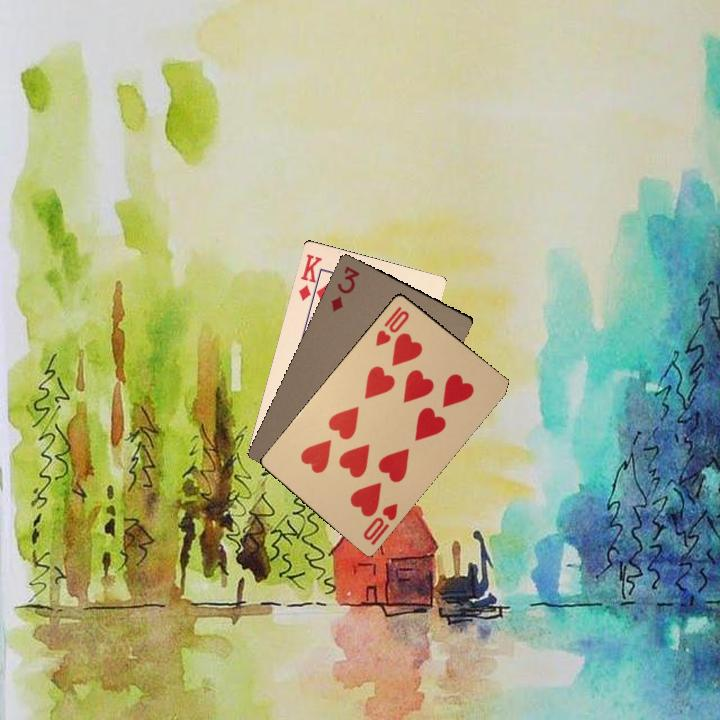10h: (359, 499, 400, 548), (371, 302, 412, 349)
3d: (327, 262, 362, 315)
Kd: (294, 250, 327, 304)
